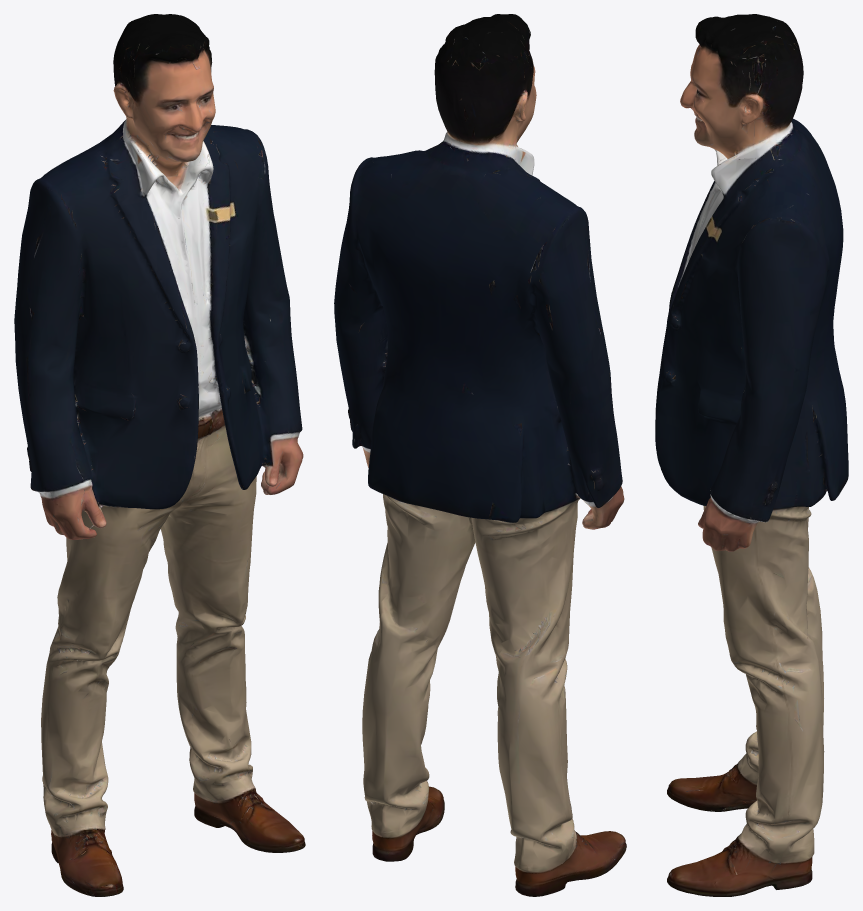
Rendered from bd33af10-e766-491e-b15d-604a7bbf3204.glb.
3 renders of one model, left to right at view 1: azimuth 30°, elevation 25°; view 2: azimuth 150°, elevation 25°; view 3: azimuth 270°, elevation 25°, orthographic.
Parts seen in each view (by area): view 1: Mesh_0; view 2: Mesh_0; view 3: Mesh_0.
Boxes of the visible parts, x1,y1,x2,y2 form: Mesh_0: [14, 14, 305, 896]; Mesh_0: [334, 14, 626, 896]; Mesh_0: [655, 14, 848, 896].
Size of the model in its own units: 0.638 by 1.91 by 0.4059.
1 material, 1 textured.
